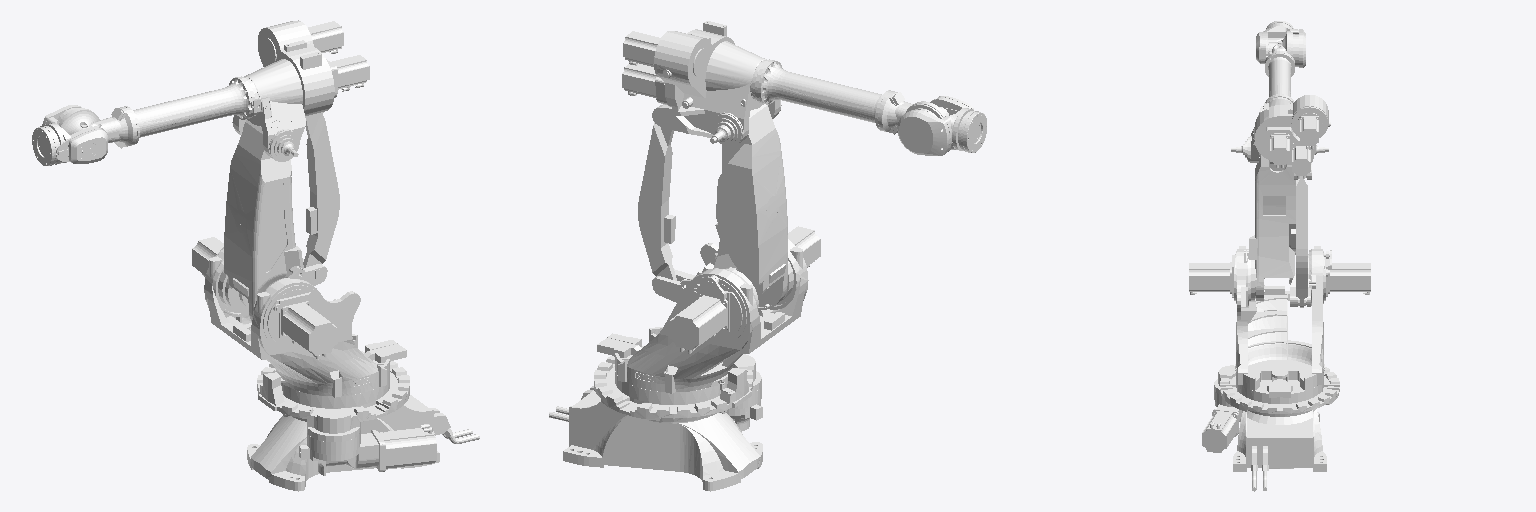
URDF robot description (robot_arm3):
<?xml version="1.0" encoding="utf-8"?>
<!-- This URDF was automatically created by SolidWorks to URDF Exporter! Originally created by Stephen Brawner (brawner@gmail.com) 
     Commit Version: 1.6.0-4-g7f85cfe  Build Version: 1.6.7995.38578
     For more information, please see http://wiki.ros.org/sw_urdf_exporter -->
<robot
  name="robot_arm3">
  <link
    name="base_link">
    <inertial>
      <origin
        xyz="0.0506232590748008 -0.0548266970438573 0.242008483472295"
        rpy="0 0 0" />
      <mass
        value="216.333805275604" />
      <inertia
        ixx="9.66692923372872"
        ixy="-0.244696571067987"
        ixz="1.32953092256858"
        iyy="16.2820097779157"
        iyz="0.246575547277278"
        izz="17.3203665607122" />
    </inertial>
    <visual>
      <origin
        xyz="0 0 0"
        rpy="0 0 0" />
      <geometry>
        <mesh
          filename="package://robot_arm3/meshes/base_link.STL" />
      </geometry>
      <material
        name="">
        <color
          rgba="1 1 1 1" />
      </material>
    </visual>
    <collision>
      <origin
        xyz="0 0 0"
        rpy="0 0 0" />
      <geometry>
        <mesh
          filename="package://robot_arm3/meshes/base_link.STL" />
      </geometry>
    </collision>
  </link>
  <link
    name="Link_1">
    <inertial>
      <origin
        xyz="-0.325058493715062 0.00618397075804262 -0.425511637199796"
        rpy="0 0 0" />
      <mass
        value="111.586923037547" />
      <inertia
        ixx="12.4549039631623"
        ixy="-0.0871563801452035"
        ixz="-4.75485680618687"
        iyy="12.9548487723321"
        iyz="0.00676482220717287"
        izz="11.5264684996682" />
    </inertial>
    <visual>
      <origin
        xyz="0 0 0"
        rpy="0 0 0" />
      <geometry>
        <mesh
          filename="package://robot_arm3/meshes/Link_1.STL" />
      </geometry>
      <material
        name="">
        <color
          rgba="1 1 1 1" />
      </material>
    </visual>
    <collision>
      <origin
        xyz="0 0 0"
        rpy="0 0 0" />
      <geometry>
        <mesh
          filename="package://robot_arm3/meshes/Link_1.STL" />
      </geometry>
    </collision>
  </link>
  <joint
    name="joint_1"
    type="revolute">
    <origin
      xyz="0 0 0.526"
      rpy="3.1416 0 0" />
    <parent
      link="base_link" />
    <child
      link="Link_1" />
    <axis
      xyz="0 0 1" />
    <limit
      lower="-3.14"
      upper="3.14"
      effort="100"
      velocity="1" />
  </joint>
  <link
    name="Link_2">
    <inertial>
      <origin
        xyz="0.031571342662649 -0.435757260332822 -0.163306098653328"
        rpy="0 0 0" />
      <mass
        value="27.4443130699897" />
      <inertia
        ixx="3.55366806885427"
        ixy="-0.0051254164443175"
        ixz="0.0440666301114017"
        iyy="0.62115417210786"
        iyz="-0.0409550273093279"
        izz="3.38412801605233" />
    </inertial>
    <visual>
      <origin
        xyz="0 0 0"
        rpy="0 0 0" />
      <geometry>
        <mesh
          filename="package://robot_arm3/meshes/Link_2.STL" />
      </geometry>
      <material
        name="">
        <color
          rgba="1 1 1 1" />
      </material>
    </visual>
    <collision>
      <origin
        xyz="0 0 0"
        rpy="0 0 0" />
      <geometry>
        <mesh
          filename="package://robot_arm3/meshes/Link_2.STL" />
      </geometry>
    </collision>
  </link>
  <joint
    name="joint_2"
    type="revolute">
    <origin
      xyz="-0.46 0.164 -0.614"
      rpy="1.5708 0 3.1416" />
    <parent
      link="Link_1" />
    <child
      link="Link_2" />
    <axis
      xyz="0 0 1" />
    <limit
      lower="-1.3"
      upper="1.3"
      effort="100"
      velocity="1" />
  </joint>
  <link
    name="Link_3">
    <inertial>
      <origin
        xyz="0.221079386390616 -0.237881703887612 0.216080525737691"
        rpy="0 0 0" />
      <mass
        value="82.8346347307404" />
      <inertia
        ixx="2.68793381829391"
        ixy="0.371511884462949"
        ixz="-0.451791535575442"
        iyy="2.83366677645353"
        iyz="0.290673551230455"
        izz="2.78709509645054" />
    </inertial>
    <visual>
      <origin
        xyz="0 0 0"
        rpy="0 0 0" />
      <geometry>
        <mesh
          filename="package://robot_arm3/meshes/Link_3.STL" />
      </geometry>
      <material
        name="">
        <color
          rgba="1 1 1 1" />
      </material>
    </visual>
    <collision>
      <origin
        xyz="0 0 0"
        rpy="0 0 0" />
      <geometry>
        <mesh
          filename="package://robot_arm3/meshes/Link_3.STL" />
      </geometry>
    </collision>
  </link>
  <joint
    name="joint_3"
    type="revolute">
    <origin
      xyz="0 -1.05 -0.013"
      rpy="-3.1416 0 3.1416" />
    <parent
      link="Link_2" />
    <child
      link="Link_3" />
    <axis
      xyz="0 0 1" />
    <limit
      lower="-3.14"
      upper="3.14"
      effort="100"
      velocity="1" />
    <dynamics
      damping="0.1"
      friction="0.0" />
  </joint>
  <link
    name="Link_4">
    <inertial>
      <origin
        xyz="-6.82974183821017E-05 -0.0368975826054763 -0.8325256223876"
        rpy="0 0 0" />
      <mass
        value="15.7635262485067" />
      <inertia
        ixx="0.475071298157737"
        ixy="6.4999048005855E-05"
        ixz="1.56982071726133E-05"
        iyy="0.46577831946917"
        iyz="-0.0338725018651429"
        izz="0.115819964731533" />
    </inertial>
    <visual>
      <origin
        xyz="0 0 0"
        rpy="0 0 0" />
      <geometry>
        <mesh
          filename="package://robot_arm3/meshes/Link_4.STL" />
      </geometry>
      <material
        name="">
        <color
          rgba="1 1 1 1" />
      </material>
    </visual>
    <collision>
      <origin
        xyz="0 0 0"
        rpy="0 0 0" />
      <geometry>
        <mesh
          filename="package://robot_arm3/meshes/Link_4.STL" />
      </geometry>
    </collision>
  </link>
  <joint
    name="joint_4"
    type="revolute">
    <origin
      xyz="-0.155 -0.25 0.151"
      rpy="-1.5708 0 -1.5708" />
    <parent
      link="Link_3" />
    <child
      link="Link_4" />
    <axis
      xyz="0 0 1" />
    <limit
      lower="-47.12"
      upper="47.12"
      effort="100"
      velocity="1" />
  </joint>
  <link
    name="Link_5">
    <inertial>
      <origin
        xyz="-5.74621655591301E-07 0.111056522193111 -0.0691533292600062"
        rpy="0 0 0" />
      <mass
        value="10.599872955139" />
      <inertia
        ixx="0.234707289944283"
        ixy="-1.35752805972676E-07"
        ixz="6.71365643071683E-07"
        iyy="0.175455708338832"
        iyz="0.00474034869122363"
        izz="0.124627798006191" />
    </inertial>
    <visual>
      <origin
        xyz="0 0 0"
        rpy="0 0 0" />
      <geometry>
        <mesh
          filename="package://robot_arm3/meshes/Link_5.STL" />
      </geometry>
      <material
        name="">
        <color
          rgba="1 1 1 1" />
      </material>
    </visual>
    <collision>
      <origin
        xyz="0 0 0"
        rpy="0 0 0" />
      <geometry>
        <mesh
          filename="package://robot_arm3/meshes/Link_5.STL" />
      </geometry>
    </collision>
  </link>
  <joint
    name="joint_5"
    type="revolute">
    <origin
      xyz="0 0.08 -1.05"
      rpy="-1.5708 0 0" />
    <parent
      link="Link_4" />
    <child
      link="Link_5" />
    <axis
      xyz="0 0 1" />
    <limit
      lower="-2.18"
      upper="2.18"
      effort="100"
      velocity="0" />
  </joint>
  <link
    name="Link_6">
    <inertial>
      <origin
        xyz="-0.000214379735330894 -0.000113813148874417 -0.00366235060272779"
        rpy="0 0 0" />
      <mass
        value="1.11777440271544" />
      <inertia
        ixx="0.00516206301646668"
        ixy="2.0450202245576E-07"
        ixz="-2.30214144734367E-06"
        iyy="0.00515170767564228"
        iyz="3.04297475169887E-06"
        izz="0.0098887895078367" />
    </inertial>
    <visual>
      <origin
        xyz="0 0 0"
        rpy="0 0 0" />
      <geometry>
        <mesh
          filename="package://robot_arm3/meshes/Link_6.STL" />
      </geometry>
      <material
        name="">
        <color
          rgba="1 1 1 1" />
      </material>
    </visual>
    <collision>
      <origin
        xyz="0 0 0"
        rpy="0 0 0" />
      <geometry>
        <mesh
          filename="package://robot_arm3/meshes/Link_6.STL" />
      </geometry>
    </collision>
  </link>
  <joint
    name="joint_6"
    type="revolute">
    <origin
      xyz="0 0.2585 -0.08"
      rpy="1.5708 0 0" />
    <parent
      link="Link_5" />
    <child
      link="Link_6" />
    <axis
      xyz="0 0 1" />
    <limit
      lower="-47.12"
      upper="47.12"
      effort="100"
      velocity="1" />
  </joint>
  <link
    name="Link_7">
    <inertial>
      <origin
        xyz="0.16561987974766 0.00169625585748889 -0.0144577166138153"
        rpy="0 0 0" />
      <mass
        value="7.59321189232814" />
      <inertia
        ixx="0.0401319769797729"
        ixy="-0.00412953079473418"
        ixz="-0.00248052767221614"
        iyy="0.197404302795005"
        iyz="-0.000102622916173881"
        izz="0.219173453819442" />
    </inertial>
    <visual>
      <origin
        xyz="0 0 0"
        rpy="0 0 0" />
      <geometry>
        <mesh
          filename="package://robot_arm3/meshes/Link_7.STL" />
      </geometry>
      <material
        name="">
        <color
          rgba="1 1 1 1" />
      </material>
    </visual>
    <collision>
      <origin
        xyz="0 0 0"
        rpy="0 0 0" />
      <geometry>
        <mesh
          filename="package://robot_arm3/meshes/Link_7.STL" />
      </geometry>
    </collision>
  </link>
  <joint
    name="joint_7"
    type="revolute">
    <origin
      xyz="-0.46 -0.164 -0.614"
      rpy="1.5708 0 0" />
    <parent
      link="Link_1" />
    <child
      link="Link_7" />
    <axis
      xyz="0 0 1" />
    <limit
      lower="-3.14"
      upper="3.14"
      effort="100"
      velocity="1" />
  </joint>
  <link
    name="Link_8">
    <inertial>
      <origin
        xyz="-0.0623370873788814 0.503943869795015 -0.030099031406005"
        rpy="0 0 0" />
      <mass
        value="10.5960008934058" />
      <inertia
        ixx="0.819811620009429"
        ixy="-0.0129095512670092"
        ixz="0.000108114911060372"
        iyy="0.0283683801225339"
        iyz="-0.00106314530410718"
        izz="0.836445936541138" />
    </inertial>
    <visual>
      <origin
        xyz="0 0 0"
        rpy="0 0 0" />
      <geometry>
        <mesh
          filename="package://robot_arm3/meshes/Link_8.STL" />
      </geometry>
      <material
        name="">
        <color
          rgba="1 1 1 1" />
      </material>
    </visual>
    <collision>
      <origin
        xyz="0 0 0"
        rpy="0 0 0" />
      <geometry>
        <mesh
          filename="package://robot_arm3/meshes/Link_8.STL" />
      </geometry>
    </collision>
  </link>
  <joint
    name="joint_8"
    type="revolute">
    <origin
      xyz="0.4 0 0.028"
      rpy="0 0 3.1416" />
    <parent
      link="Link_7" />
    <child
      link="Link_8" />
    <axis
      xyz="0 0 1" />
    <limit
      lower="-3.14"
      upper="3.14"
      effort="100"
      velocity="1" />
    <dynamics
      damping="0.1"
      friction="0.0" />
  </joint>
</robot>

--- Render facts (derived) ---
Views: 3 orthographic renders of the robot side by side, from view 1: azimuth 30°, elevation 25°; view 2: azimuth 150°, elevation 25°; view 3: azimuth 270°, elevation 25°.
Model robot_arm3 with 9 links and 8 joints (8 revolute), rooted at base_link, posed all joints at 0.
Visible links, largest first — view 1: Link_1, base_link, Link_3, Link_2, Link_4, Link_8, Link_5, Link_6, Link_7; view 2: Link_1, base_link, Link_3, Link_2, Link_4, Link_8, Link_5, Link_6, Link_7; view 3: Link_1, base_link, Link_3, Link_2, Link_4, Link_8, Link_5.
Link boxes in pixels (x1,y1,x2,y2): Link_1: (192,237,406,407); base_link: (247,351,479,491); Link_3: (232,20,369,161); Link_2: (224,120,303,321); Link_4: (57,77,251,148); Link_8: (303,115,339,267); Link_5: (42,105,107,164); Link_6: (32,126,59,165); Link_7: (225,259,327,314); Link_1: (597,226,820,404); base_link: (549,345,762,491); Link_3: (622,21,781,146); Link_2: (713,104,787,309); Link_4: (758,60,948,134); Link_8: (638,104,676,280); Link_5: (897,96,974,155); Link_6: (958,111,986,152); Link_7: (652,267,758,306); Link_1: (1189,246,1370,403); base_link: (1202,365,1339,491); Link_3: (1231,95,1330,179); Link_2: (1247,154,1299,300); Link_4: (1263,31,1298,106); Link_8: (1296,176,1307,307); Link_5: (1256,24,1305,67).
Bounding box of the posed robot: 2.8 × 1.35 × 2.71 m (x, y, z).
Meshes: 9 distinct files referenced, 9 mesh visuals loaded (9 binary STL).
